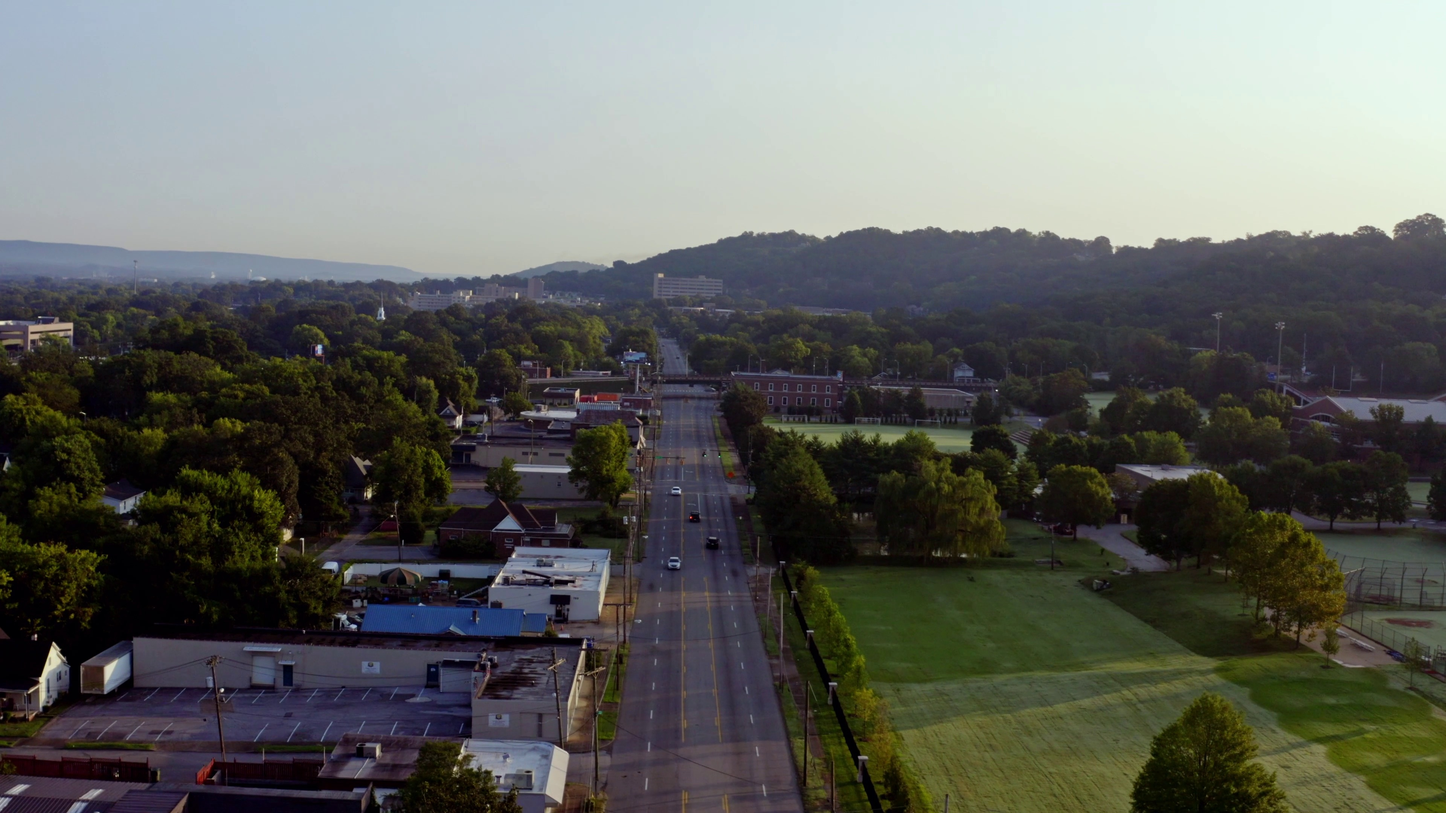Vehicle: (667, 557, 681, 570), (706, 537, 720, 549), (689, 511, 700, 522), (671, 487, 682, 496), (704, 388, 716, 392), (676, 356, 680, 359)
